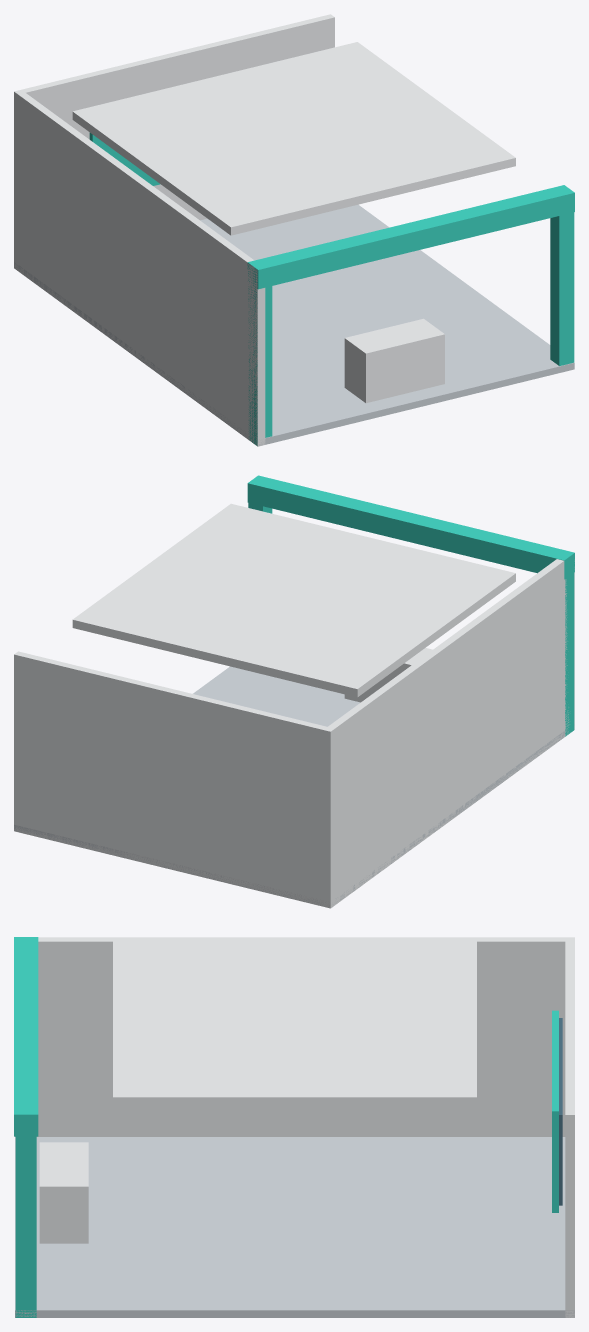
3 renders of one model, top to bottom at view 1: azimuth 30°, elevation 25°; view 2: azimuth 150°, elevation 25°; view 3: azimuth 270°, elevation 25°, orthographic. The views are drawn at different scales.
Visible parts, largest first — view 1: Exhibition Booth Concept; view 2: Exhibition Booth Concept; view 3: Exhibition Booth Concept.
Boxes of the visible parts, x1,y1,x2,y2 form: Exhibition Booth Concept: (14, 14, 574, 446); Exhibition Booth Concept: (14, 475, 574, 908); Exhibition Booth Concept: (14, 937, 574, 1317).
Bounding box in the file's own units: 6 × 3.34 × 8.01.
